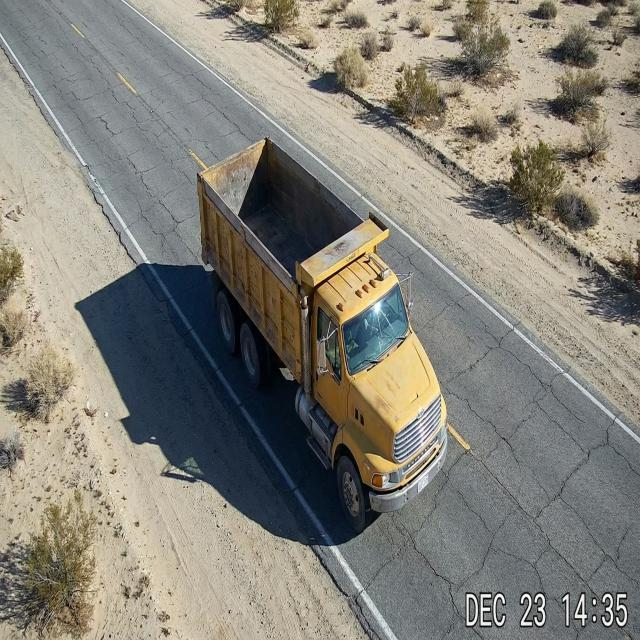Box: (196, 136, 387, 282)
Truck: (190, 130, 453, 528)
